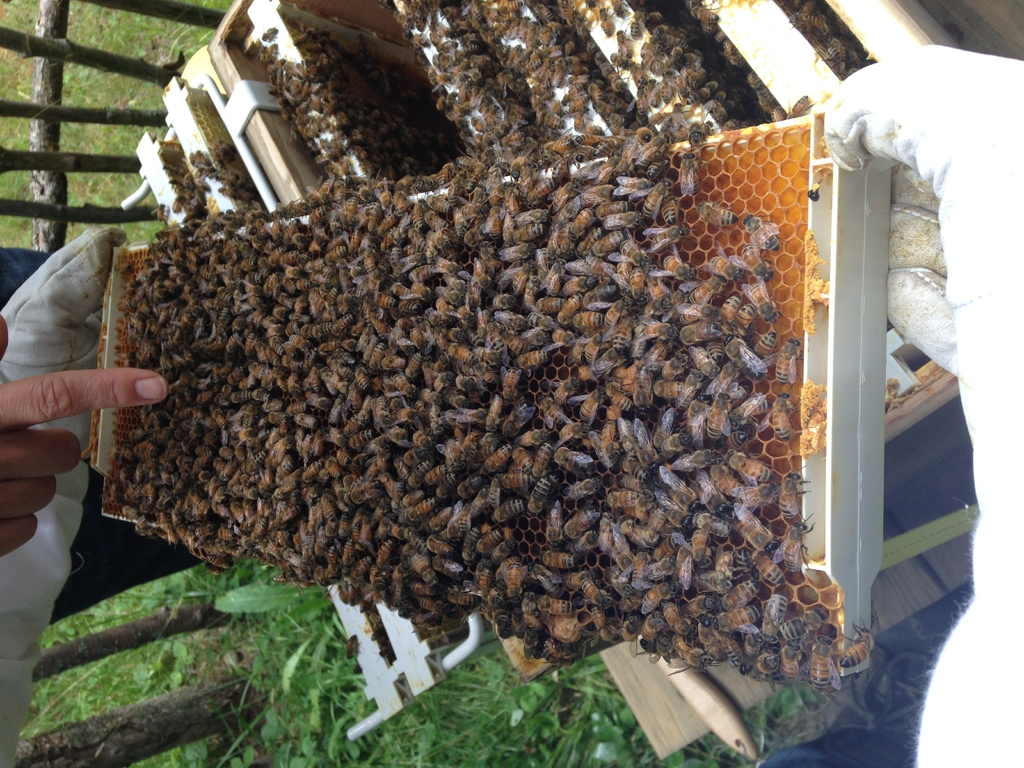Human_hand: (0, 313, 169, 557)
